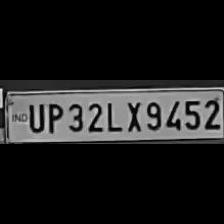2: (84, 99, 104, 133), (201, 96, 221, 130)
3: (64, 100, 84, 132)
4: (163, 97, 181, 131)
5: (180, 96, 200, 130)
9: (141, 97, 161, 130)
L: (104, 98, 122, 132)
P: (44, 100, 64, 134)
U: (24, 101, 44, 133)
X: (122, 98, 142, 132)
